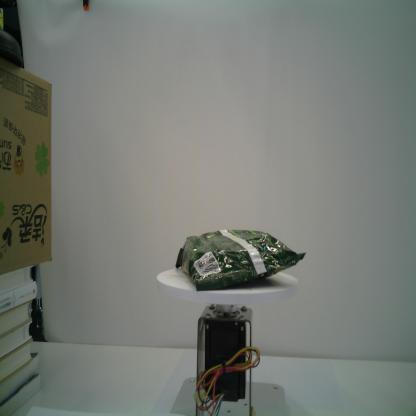Instant Noodles: (175, 228, 308, 294)
